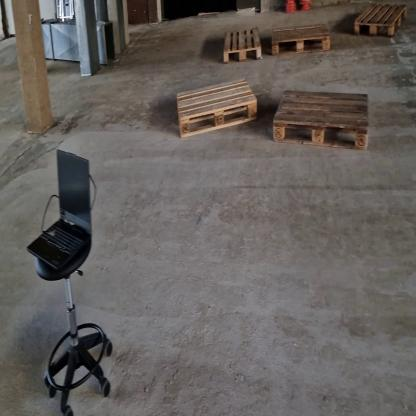BoxFace: (270, 85, 371, 155), (173, 73, 262, 141), (351, 0, 410, 43), (270, 16, 333, 56), (222, 22, 264, 65)
